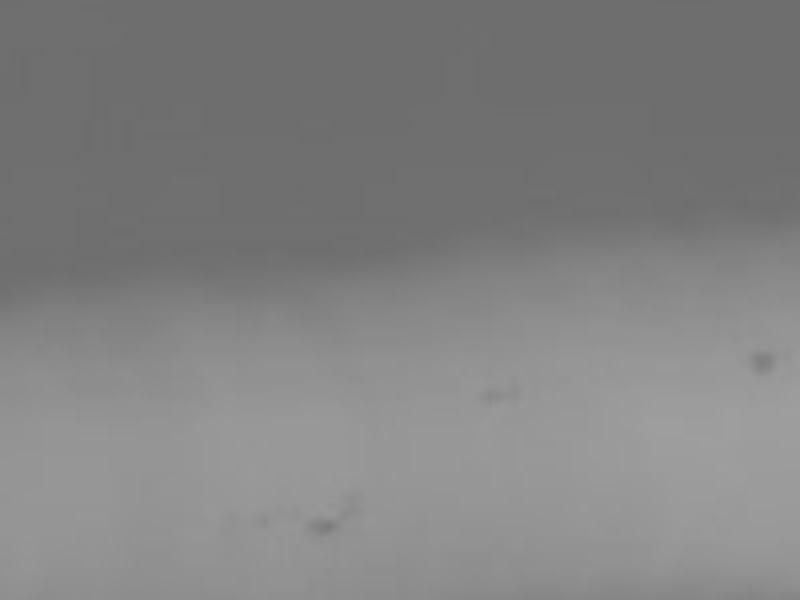defect: (483, 384, 508, 410), (751, 347, 772, 375), (312, 514, 338, 534)
